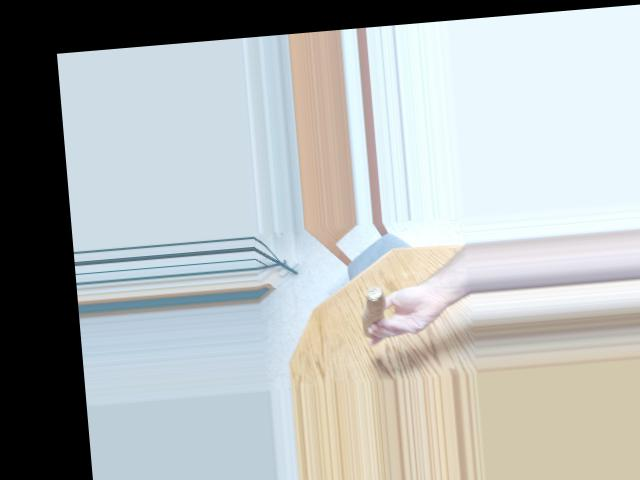sweet_potato: (356, 277, 401, 341)
